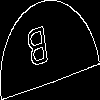B: (25, 25, 51, 77)
